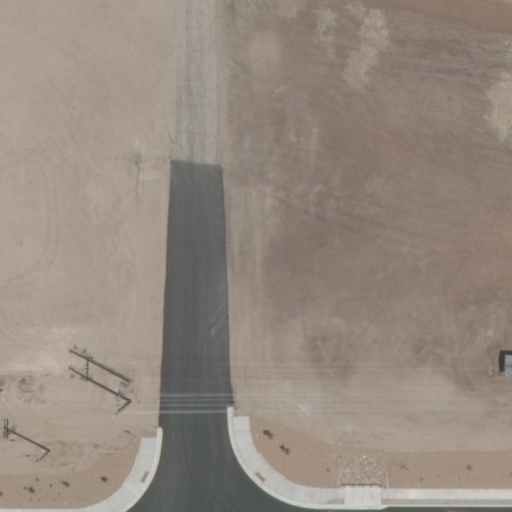DT: (110, 377, 140, 419), (33, 443, 55, 467)
